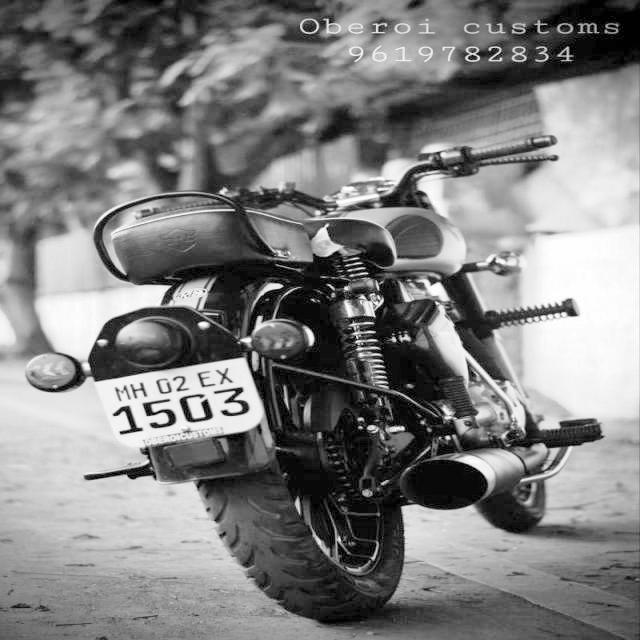Bike: (73, 147, 605, 611)
